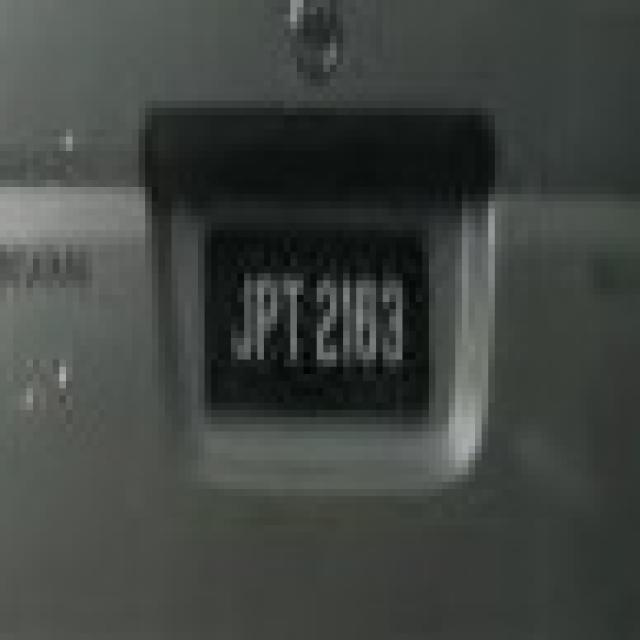1: (337, 276, 355, 369)
2: (314, 278, 339, 371)
3: (381, 274, 407, 367)
8: (352, 276, 380, 368)
J: (228, 276, 253, 362)
P: (251, 273, 281, 366)
T: (280, 276, 305, 363)
